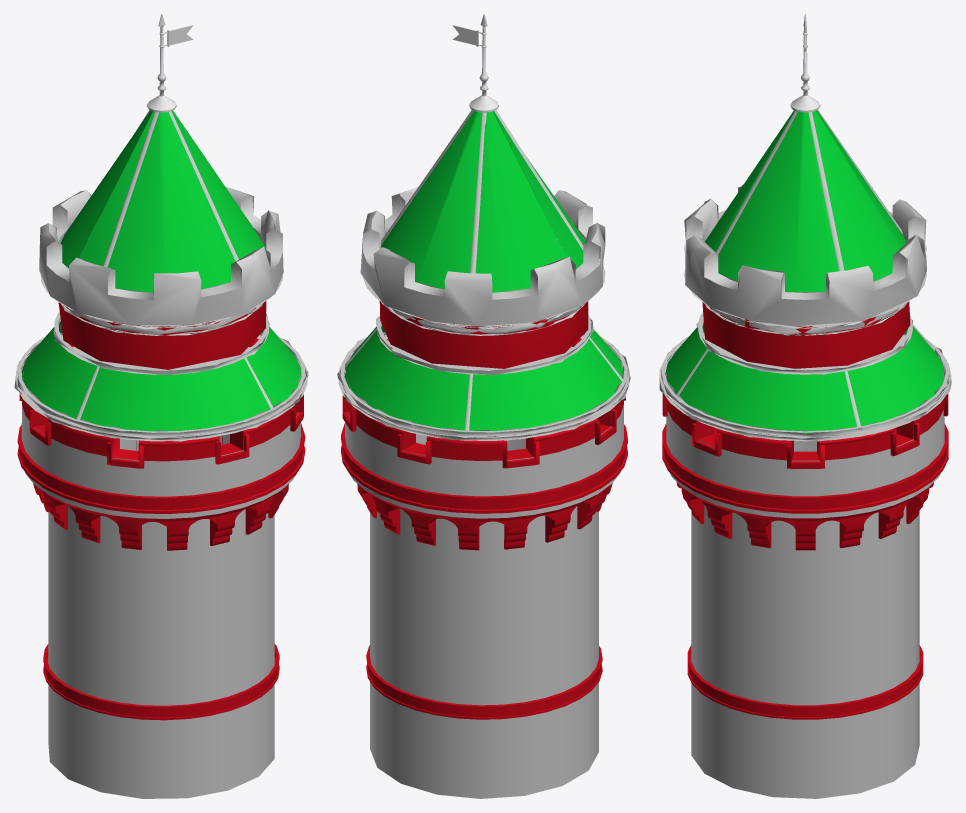
File: Tower_Roff (1).fbx
3 views of the same model, side by side, from view 1: azimuth 30°, elevation 25°; view 2: azimuth 150°, elevation 25°; view 3: azimuth 270°, elevation 25° (orthographic).
Visible parts, largest first — view 1: Tower_1.003, Group_1.000, Group_4.007; view 2: Tower_1.003, Group_1.000, Group_4.007; view 3: Tower_1.003, Group_1.000, Group_4.007.
Part boxes in pixels (box(x1,y1,x2,y2)): Tower_1.003: box(17, 338, 305, 798); Group_1.000: box(14, 110, 308, 441); Group_4.007: box(147, 14, 193, 112); Tower_1.003: box(341, 338, 627, 798); Group_1.000: box(337, 110, 630, 440); Group_4.007: box(452, 14, 498, 112); Tower_1.003: box(662, 345, 948, 798); Group_1.000: box(659, 110, 951, 441); Group_4.007: box(790, 14, 820, 112).
Size of the model in its own units: 829 by 2289 by 824.
